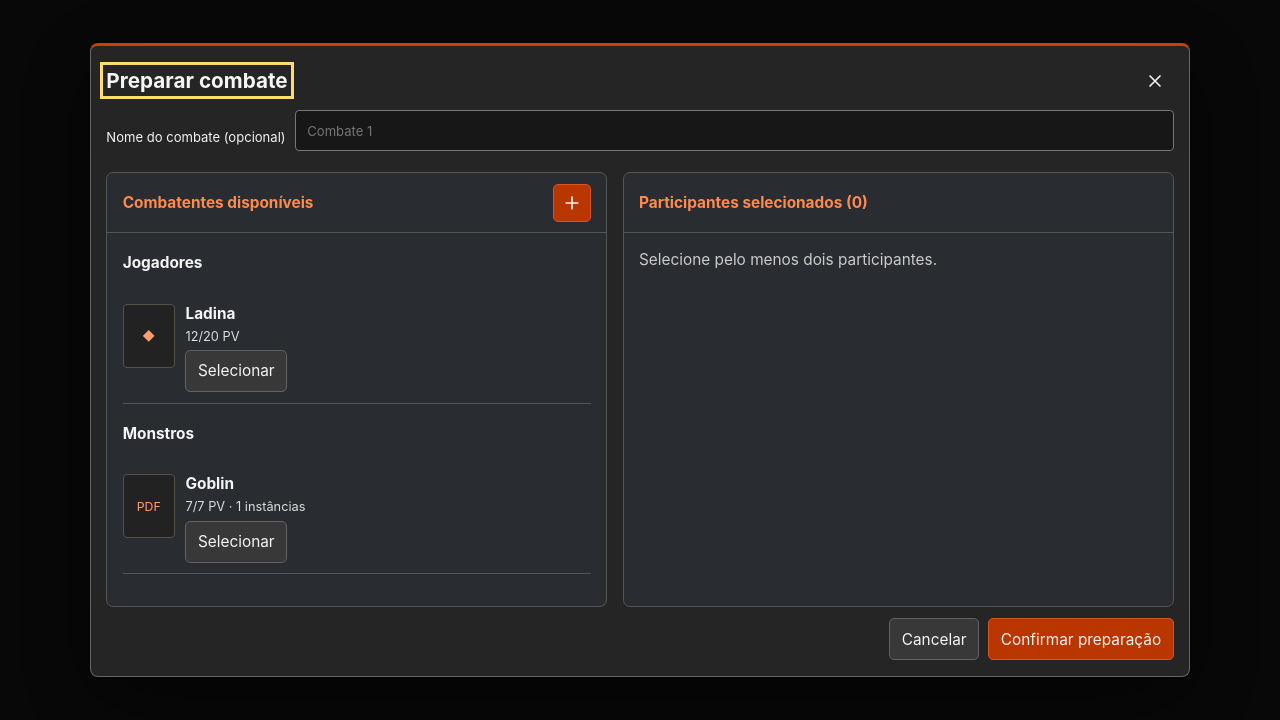
Scenario: preparação local de combate › lista jogadores/monstros, exige dois e impede jogador duplicado sem alterar PV
Expected: the button with aria-label "Selecionar monstro Goblin" is enabled, [186,521,287,563]
Click the button "Confirmar preparação".
click(1081, 639)  # box [988,618,1174,660]
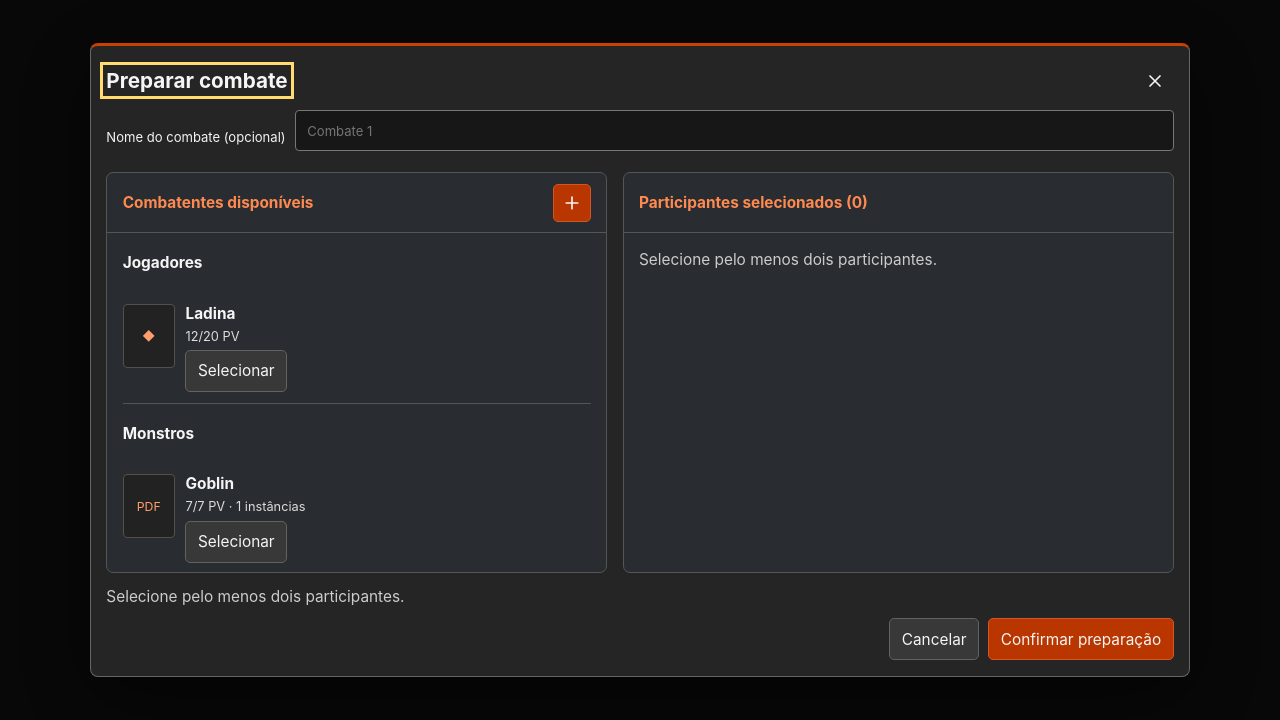
Result: the message shows "pelo menos dois" at [106,587,404,606]
Click the button with aria-label "Selecionar jogador Ladina".
click(236, 371)  # box [186,350,287,392]
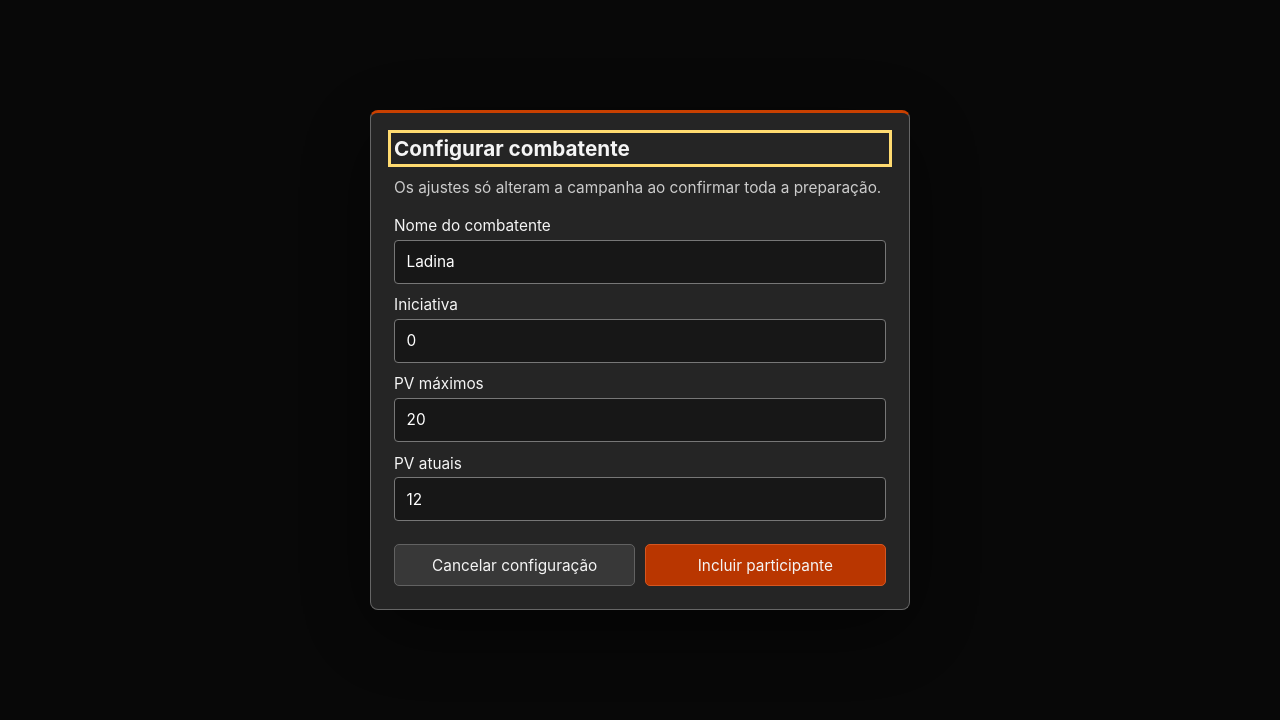
Replace the text in the number field labelled "Iniciativa" with "-2" at [640, 341], box [394,319,886,363]
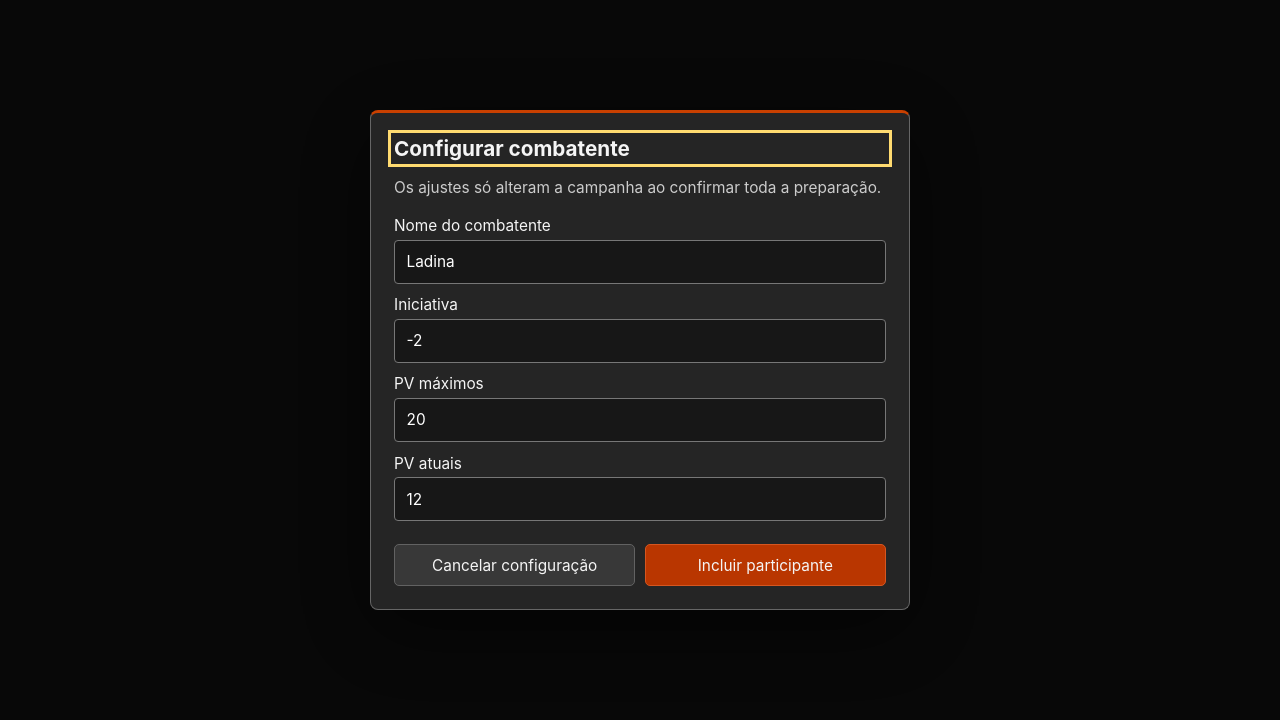
Click the button "Incluir participante".
click(765, 565)  # box [645,544,886,586]
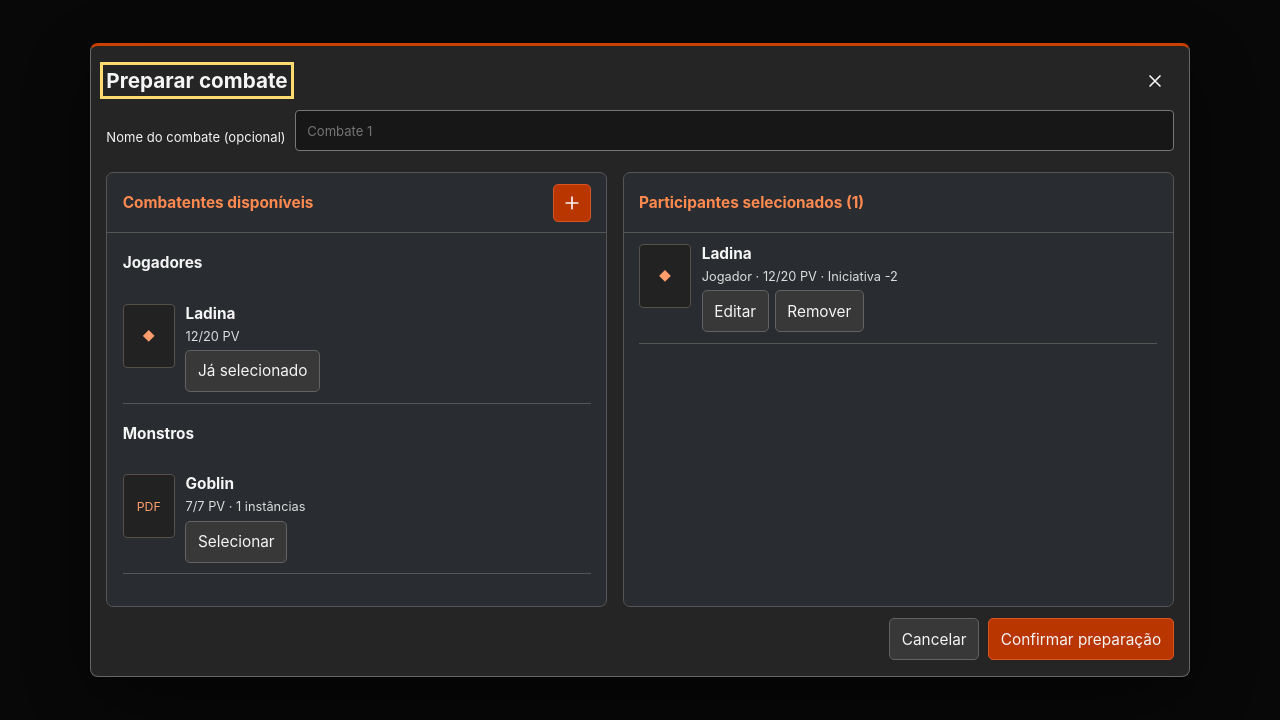
Result: the button with aria-label "Selecionar jogador Ladina" is disabled at [186,350,320,392]
